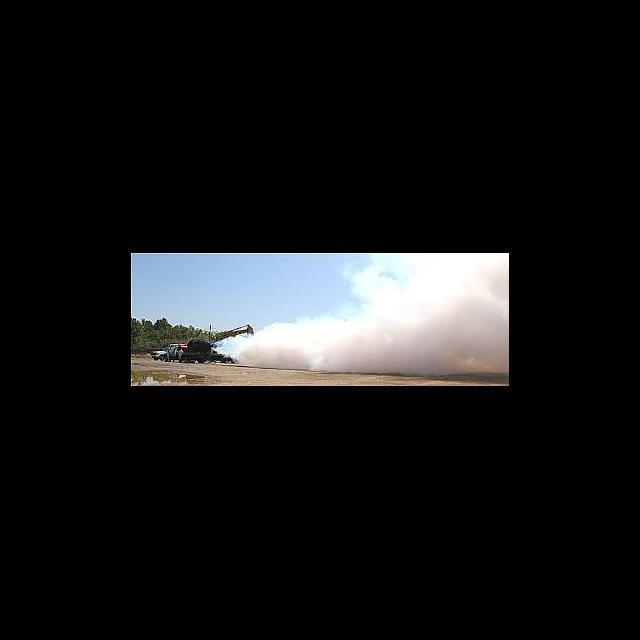Smoke: (370, 256, 508, 376), (258, 310, 368, 370), (237, 336, 260, 366)
